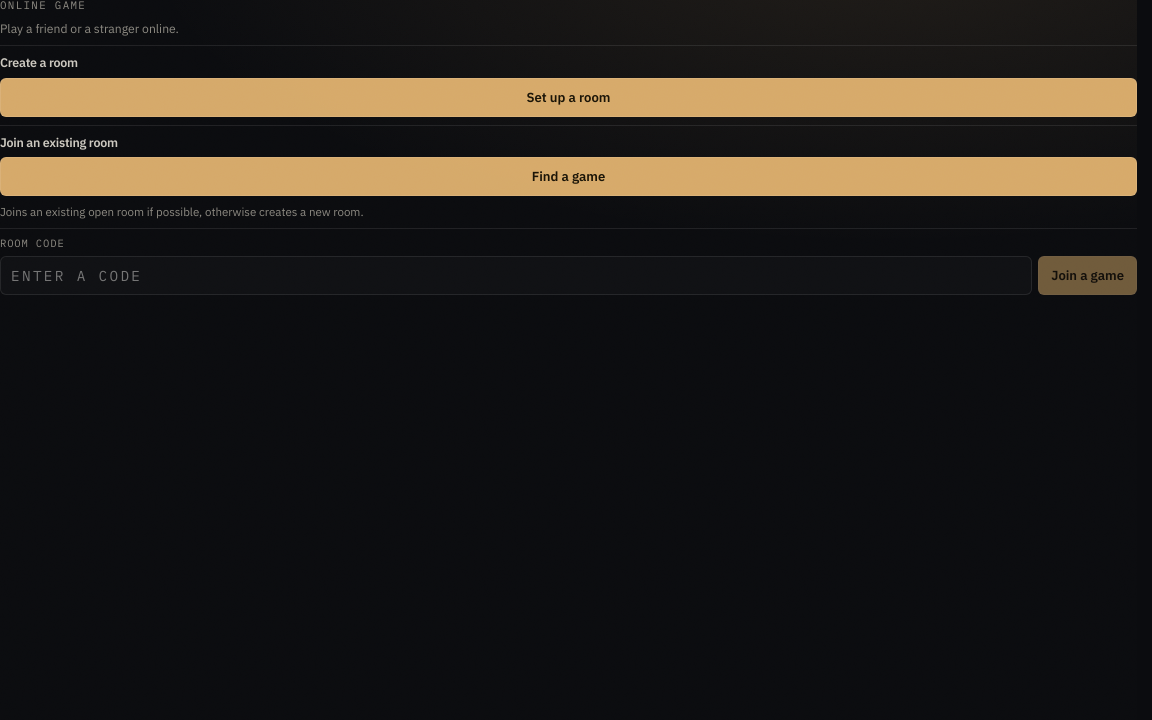
Test: OnlinePanel — getting into a game › opens the settings before creating anything
Click the button "Set up a room": point(568, 97) [0,78,1137,117]
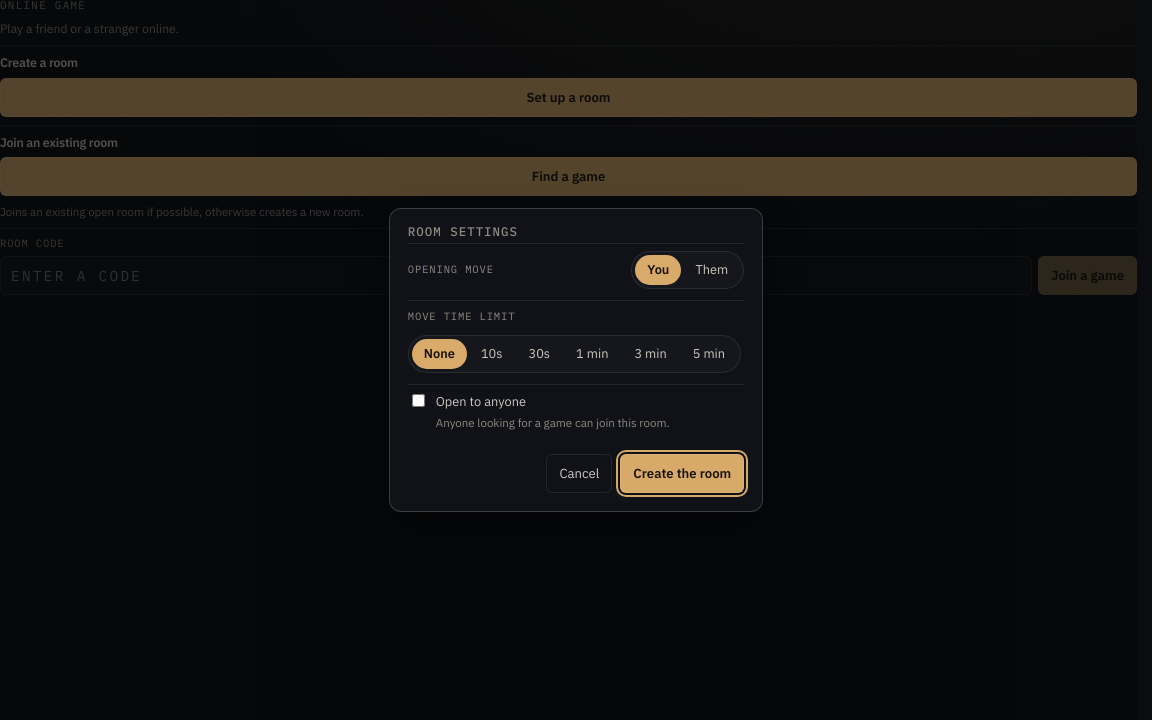
Result: the dialog is shown at [389,208,763,512]
